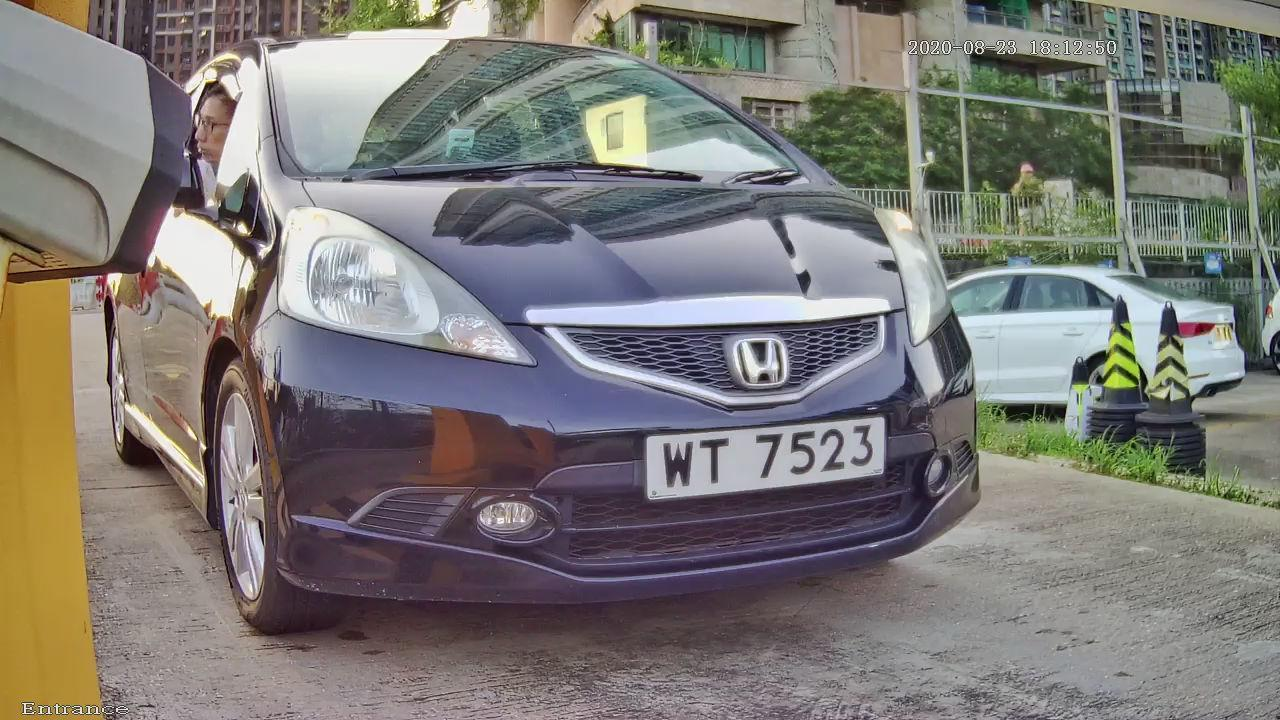Car: (92, 4, 1058, 656)
License Plate: (602, 380, 947, 519)
